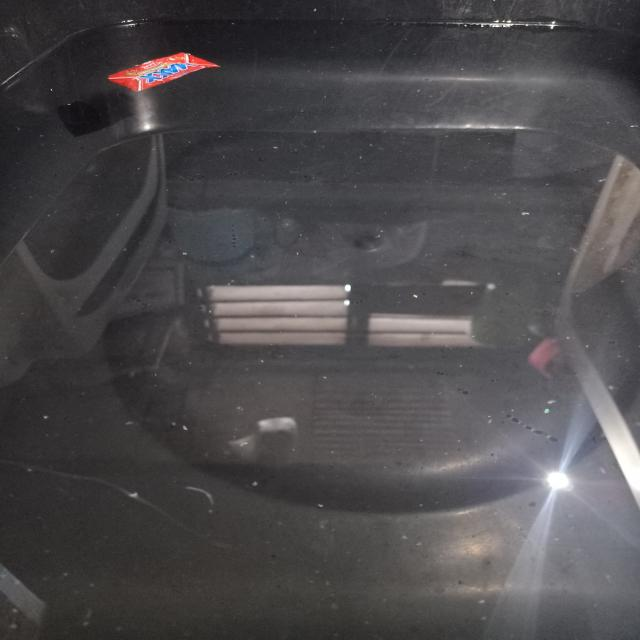Plastic Wrapper: (108, 53, 219, 92)
